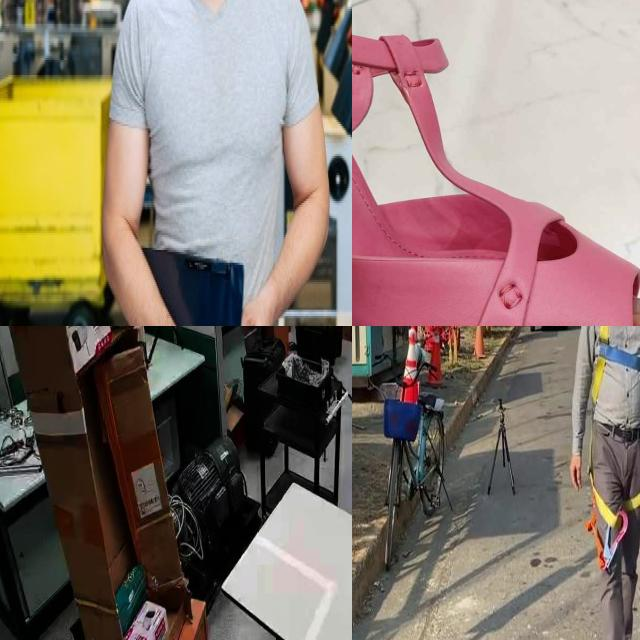Harness: (586, 470, 640, 572), (593, 326, 640, 404)
Sandals: (352, 0, 640, 326)
person: (123, 0, 333, 326)
